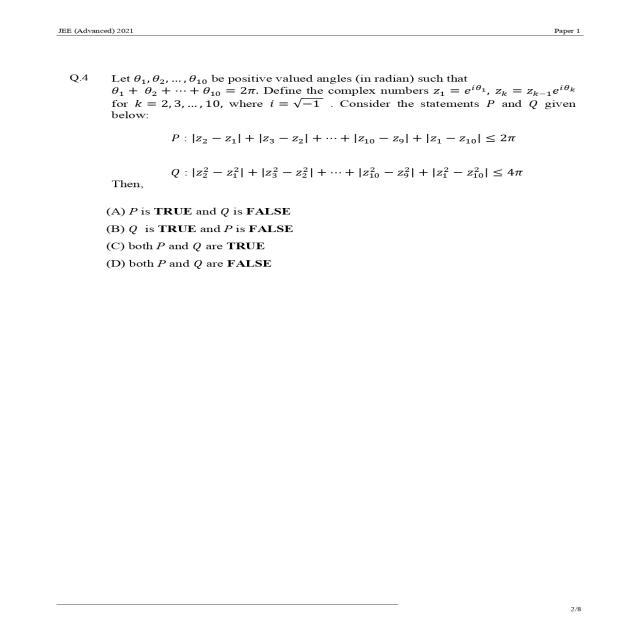Answer_Block: (35, 197, 611, 284)
Question_Answer_Block: (35, 48, 611, 284)
Question_Block: (35, 48, 611, 194)
Question_Paper_Area: (35, 49, 611, 426)
